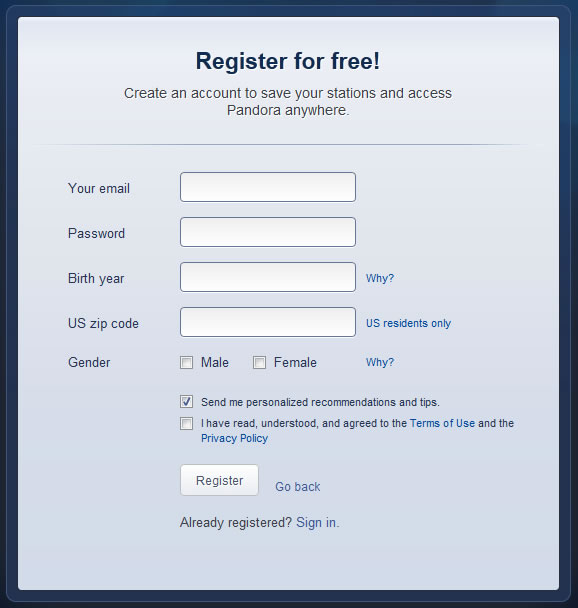_form_: (61, 143, 520, 556)
button: (179, 463, 257, 496)
checkbox: (180, 416, 196, 431), (252, 356, 267, 369), (180, 395, 195, 408), (181, 356, 195, 368)
checkbox_with_label: (178, 415, 512, 444), (176, 393, 440, 409), (248, 354, 318, 371), (176, 354, 228, 370)
field: (177, 170, 357, 203), (177, 259, 356, 292), (177, 216, 356, 248), (178, 305, 356, 337)
field_with_label: (67, 213, 359, 250), (67, 257, 358, 294), (68, 168, 358, 205), (67, 303, 359, 339), (173, 303, 450, 339)
